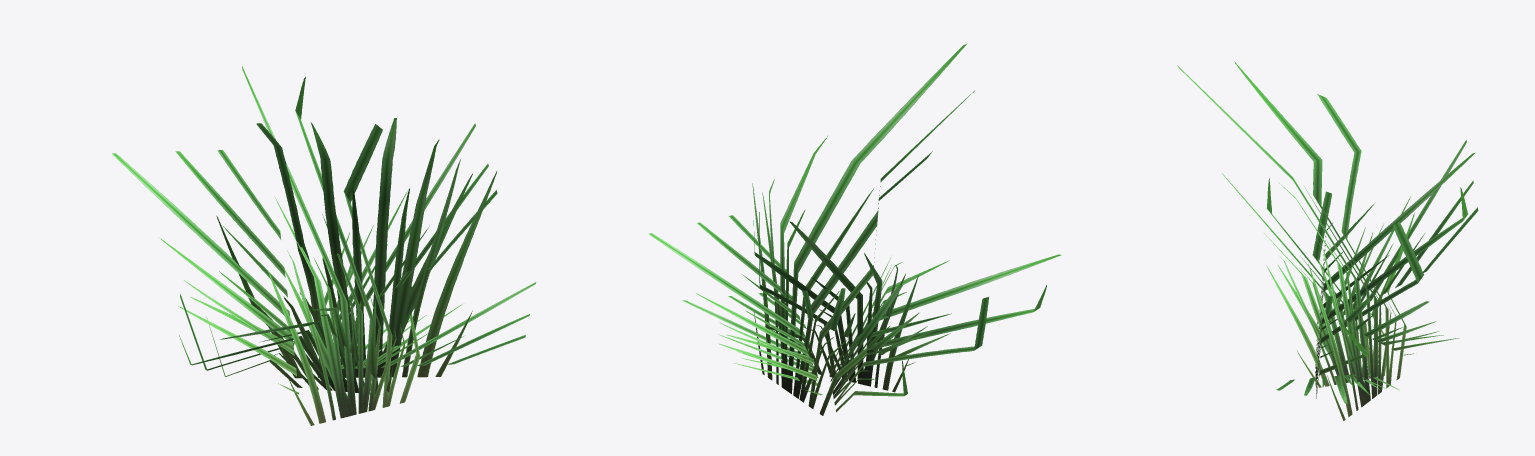
The model's file is flowerplant3_lod2.fbx.
3 renders of one model, left to right at view 1: azimuth 30°, elevation 25°; view 2: azimuth 150°, elevation 25°; view 3: azimuth 270°, elevation 25°, orthographic. The views are drawn at different scales.
Visible parts, largest first — view 1: Mesh Object; view 2: Mesh Object; view 3: Mesh Object.
Boxes of the visible parts, x1,y1,x2,y2 form: Mesh Object: [112, 66, 536, 425]; Mesh Object: [648, 43, 1061, 415]; Mesh Object: [1177, 61, 1478, 420].
Bounding box in the file's own units: 2.64 × 2.07 × 2.17.
